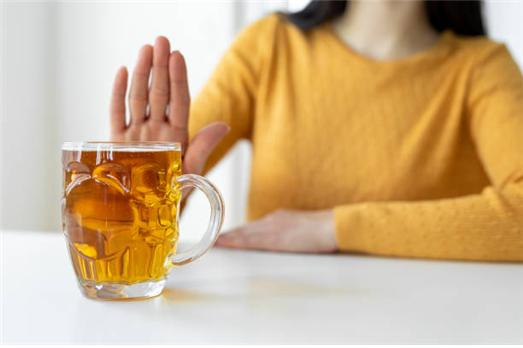alcohol: (60, 139, 180, 301)
